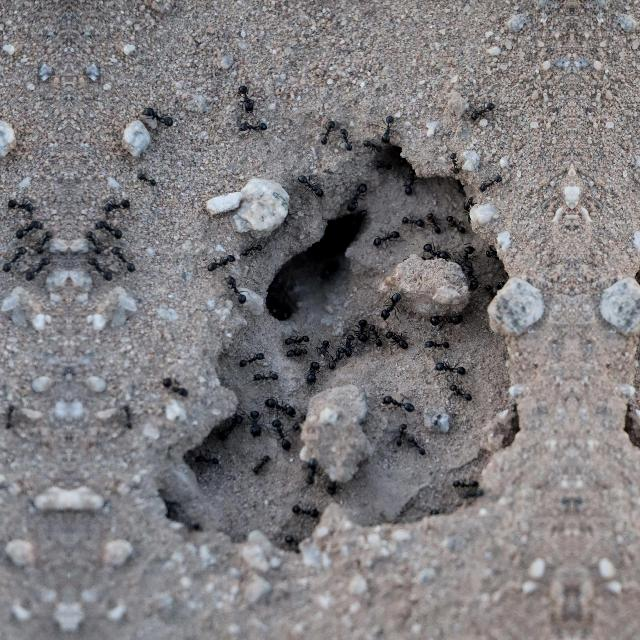Messor: (224, 76, 260, 115), (420, 302, 462, 330), (196, 244, 232, 274), (294, 172, 332, 200), (309, 108, 336, 146), (368, 220, 402, 250), (458, 97, 496, 123), (373, 112, 403, 144), (473, 168, 503, 200), (267, 418, 293, 454), (138, 104, 176, 128), (296, 451, 320, 489), (98, 190, 138, 212), (0, 189, 38, 212), (92, 213, 120, 244), (16, 213, 44, 244), (108, 246, 138, 274), (378, 293, 404, 325), (431, 360, 472, 380), (0, 245, 28, 274), (223, 268, 244, 306), (234, 234, 262, 262), (158, 374, 188, 400), (382, 389, 414, 413), (243, 449, 271, 476), (262, 398, 296, 420), (290, 500, 324, 522), (384, 328, 410, 356), (336, 118, 356, 154), (420, 336, 456, 356), (445, 474, 479, 494), (249, 368, 283, 388), (232, 350, 266, 370), (345, 182, 367, 212), (279, 329, 313, 348), (448, 381, 478, 402), (88, 254, 114, 278), (22, 254, 48, 278), (319, 340, 337, 374), (242, 406, 262, 436), (426, 239, 450, 263), (406, 436, 430, 460), (240, 116, 266, 138), (136, 169, 158, 195), (116, 404, 138, 430), (442, 212, 466, 235), (0, 404, 20, 430), (399, 210, 425, 228), (196, 452, 222, 470), (396, 170, 416, 193), (305, 358, 321, 386), (281, 530, 303, 550), (361, 136, 385, 154), (423, 210, 441, 234), (446, 151, 462, 177), (481, 243, 501, 263), (82, 230, 100, 252), (36, 230, 54, 252), (456, 246, 472, 270), (391, 426, 407, 450), (324, 476, 340, 500), (340, 334, 354, 356), (357, 317, 367, 347), (286, 346, 308, 358), (371, 325, 382, 349), (464, 198, 476, 208)
